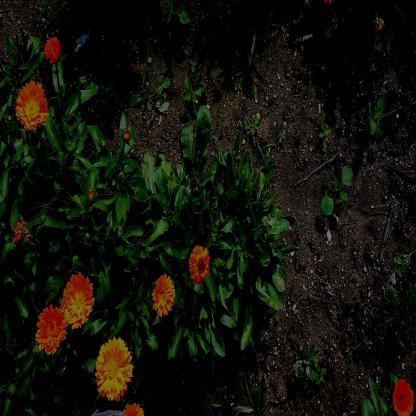marigold: (97, 336, 133, 398), (63, 274, 94, 326), (17, 80, 48, 128), (37, 305, 64, 349), (151, 275, 175, 313), (187, 246, 209, 278), (394, 379, 414, 414), (46, 38, 59, 60)
